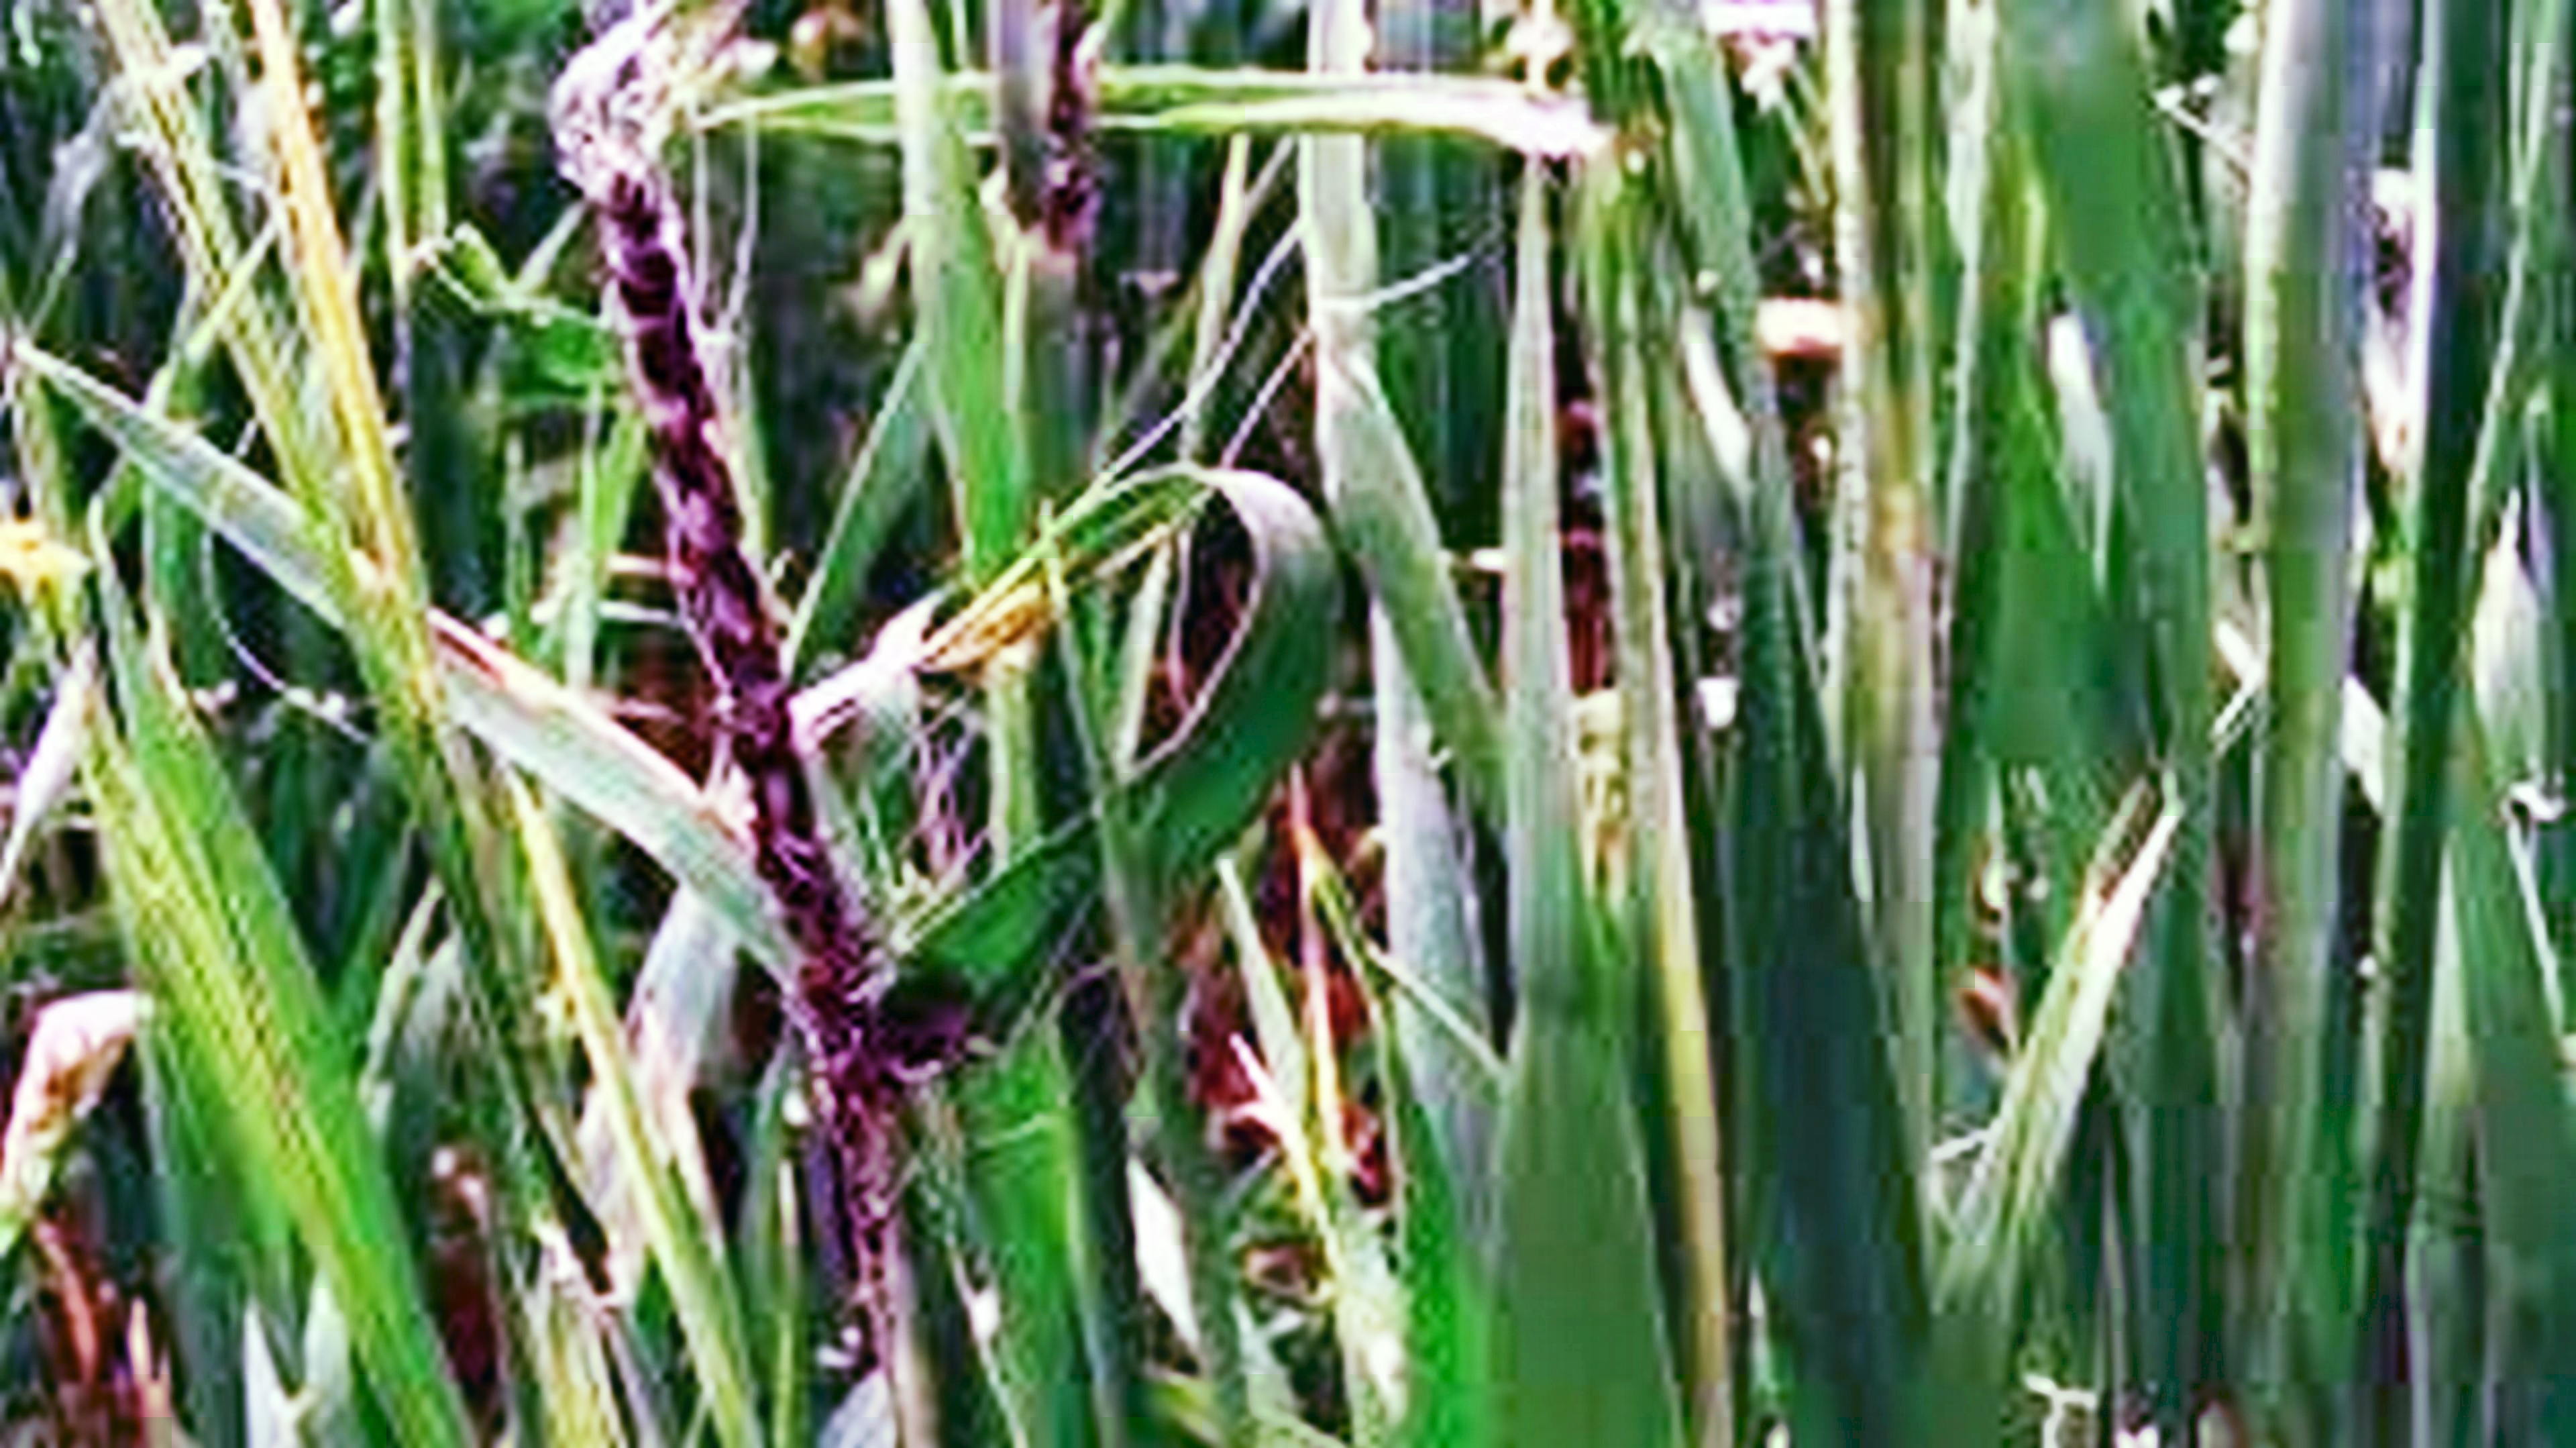Wheat Loose Smut: (614, 188, 916, 1177)
